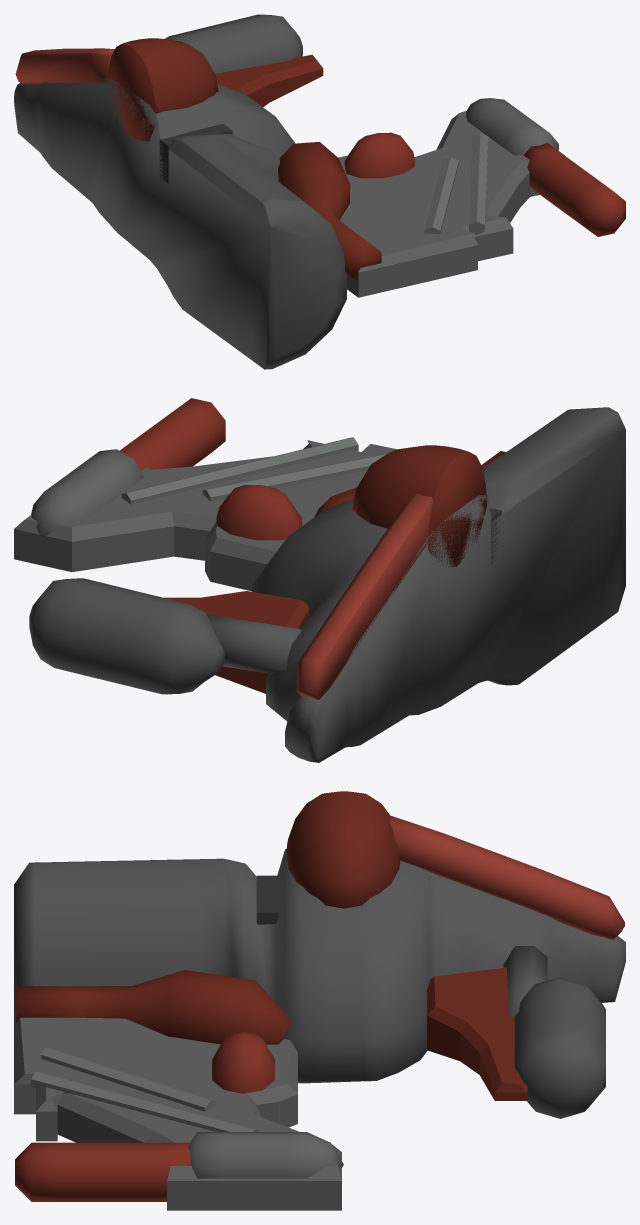
File: newsh5-231.glb
3 views of the same model, one above another, from view 1: azimuth 30°, elevation 25°; view 2: azimuth 150°, elevation 25°; view 3: azimuth 270°, elevation 25° (orthographic). The views are drawn at different scales.
Parts seen in each view (by area): view 1: newsh5-231; view 2: newsh5-231; view 3: newsh5-231.
Part boxes in pixels (x1=…): newsh5-231: x1=14, y1=14, x2=625, y2=369; newsh5-231: x1=14, y1=398, x2=625, y2=762; newsh5-231: x1=14, y1=791, x2=625, y2=1210.
Bounding box in the file's own units: 1.92 × 1.13 × 2.33.
